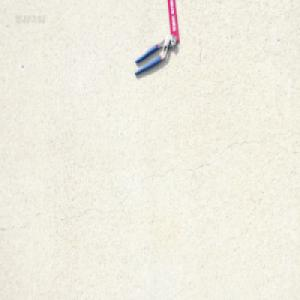Label: (167, 0, 180, 45)
Pliers: (133, 36, 176, 78)
